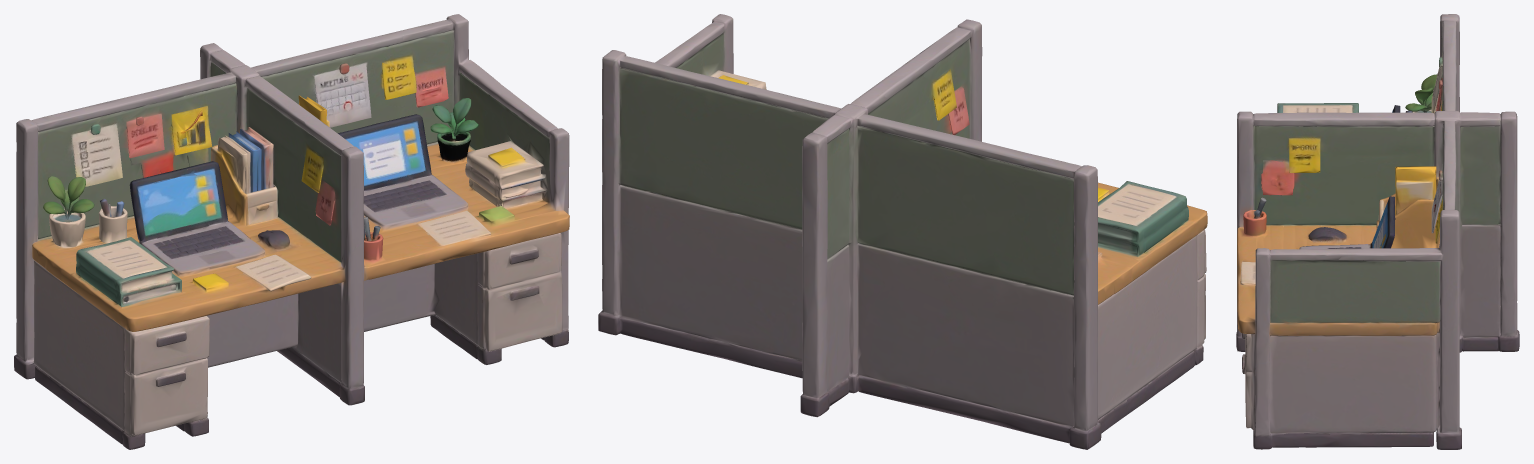
The model's file is desk.fbx.
The picture shows the model from 3 angles, left to right: view 1: azimuth 30°, elevation 25°; view 2: azimuth 150°, elevation 25°; view 3: azimuth 270°, elevation 25°; orthographic projection. The views are drawn at different scales.
Parts seen in each view (by area): view 1: tripo_node_4bc6c6c9; view 2: tripo_node_4bc6c6c9; view 3: tripo_node_4bc6c6c9.
Boxes of the visible parts, x1,y1,x2,y2 form: tripo_node_4bc6c6c9: (14,14,569,449); tripo_node_4bc6c6c9: (598,14,1207,449); tripo_node_4bc6c6c9: (1236,14,1519,449).
Bounding box in the file's own units: 0.9801 × 0.5285 × 0.5749.
